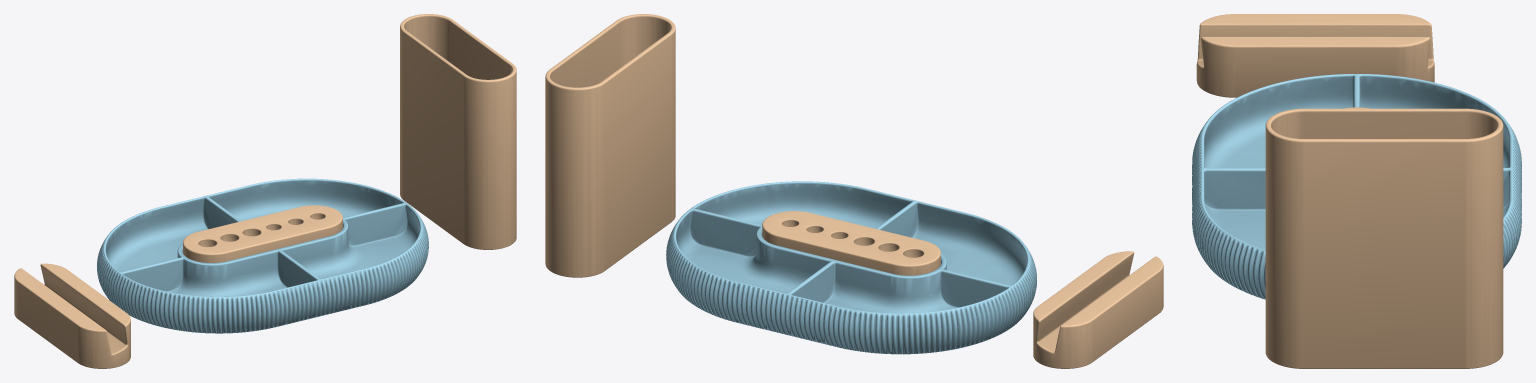
The model's file is masa-organizeri.glb.
3 renders of one model, left to right at view 1: azimuth 30°, elevation 25°; view 2: azimuth 150°, elevation 25°; view 3: azimuth 270°, elevation 25°, orthographic. The views are drawn at different scales.
Parts seen in each view (by area): view 1: Tepsi, KalemKutusu, TelefonStandi, Kalemlik; view 2: Tepsi, KalemKutusu, TelefonStandi, Kalemlik; view 3: KalemKutusu, Tepsi, TelefonStandi.
Boxes of the visible parts, bbox=[...] form: Tepsi: bbox=[97, 178, 428, 333]; KalemKutusu: bbox=[400, 14, 516, 249]; TelefonStandi: bbox=[14, 263, 130, 368]; Kalemlik: bbox=[183, 205, 342, 262]; Tepsi: bbox=[666, 181, 1036, 354]; KalemKutusu: bbox=[545, 14, 675, 277]; TelefonStandi: bbox=[1033, 251, 1163, 368]; Kalemlik: bbox=[762, 211, 940, 275]; KalemKutusu: bbox=[1265, 108, 1503, 368]; Tepsi: bbox=[1192, 74, 1521, 299]; TelefonStandi: bbox=[1196, 14, 1434, 97].
Bounding box in the file's own units: 0.3138 × 0.11 × 0.1439.
